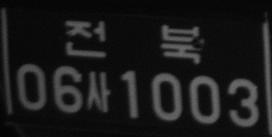0: (188, 74, 220, 125), (150, 71, 182, 121), (16, 63, 47, 111)
1: (117, 69, 144, 119)
3: (227, 77, 259, 128)
6: (52, 65, 83, 114)
사: (85, 70, 110, 113)
전북_D: (64, 19, 202, 64)
